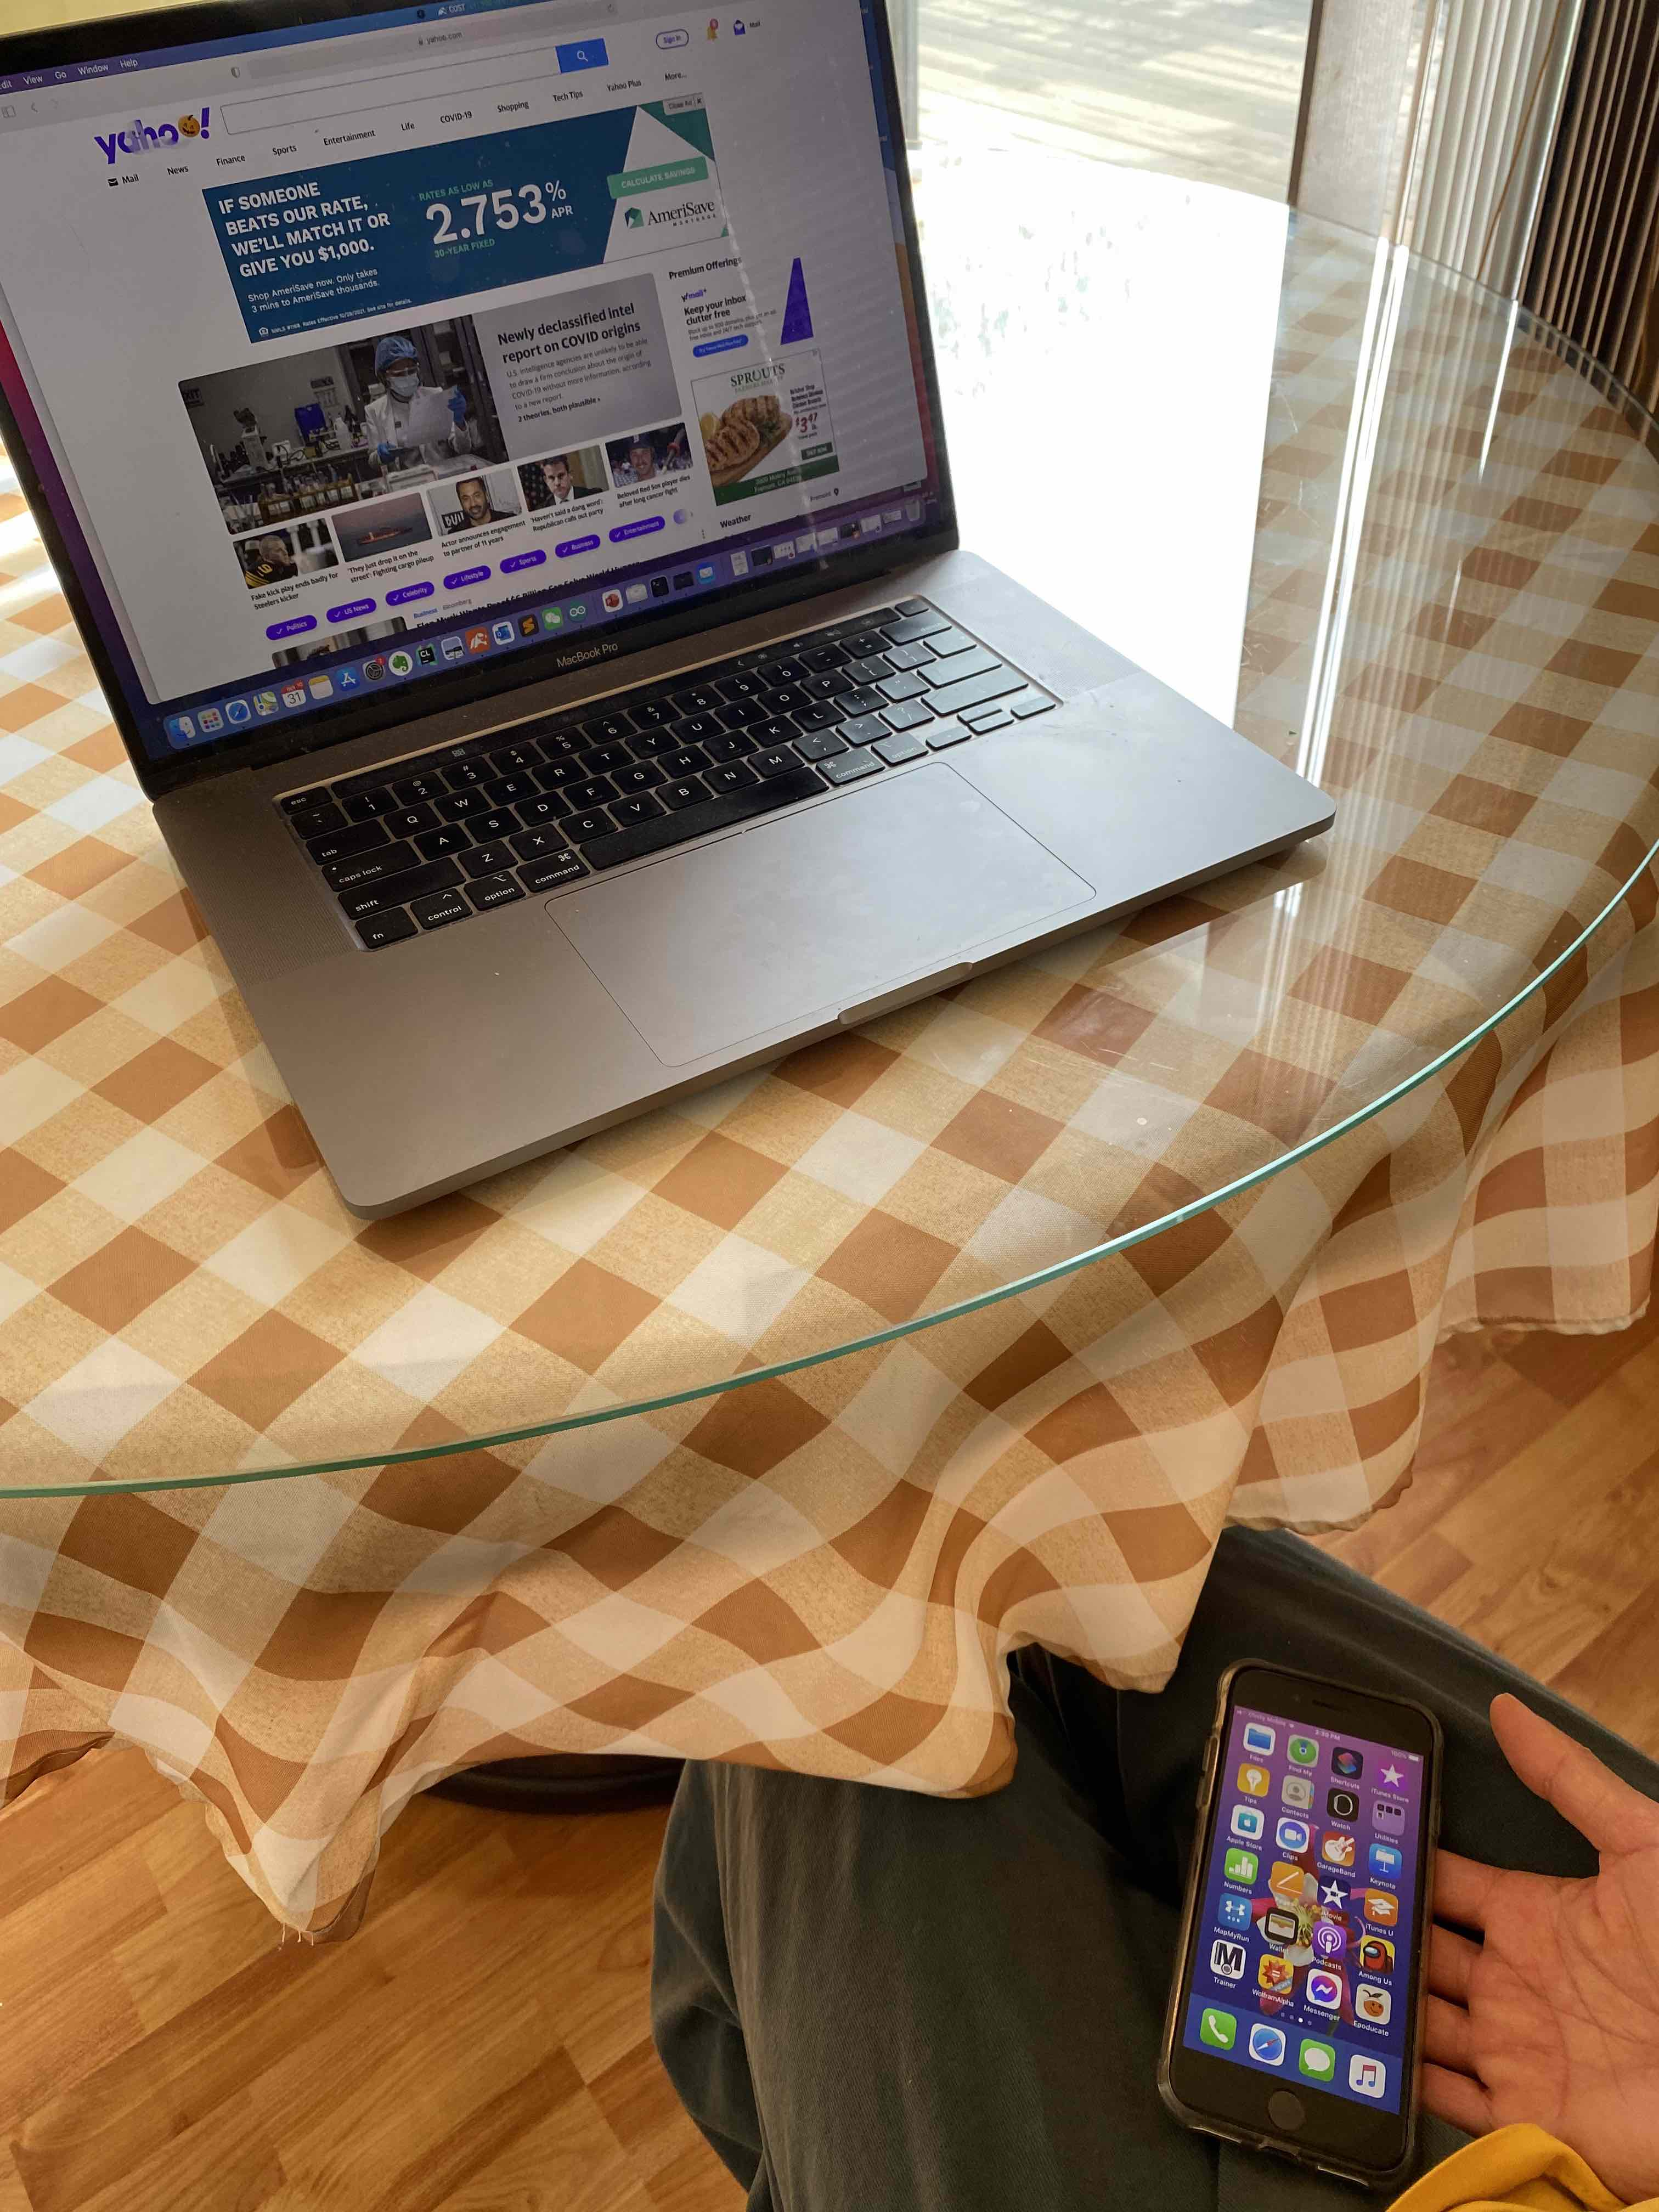Cell Phone: (1161, 1663, 1424, 2196)
